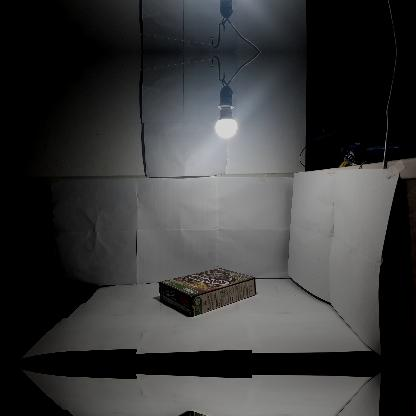Koko-Krunch: (158, 268, 256, 316)
